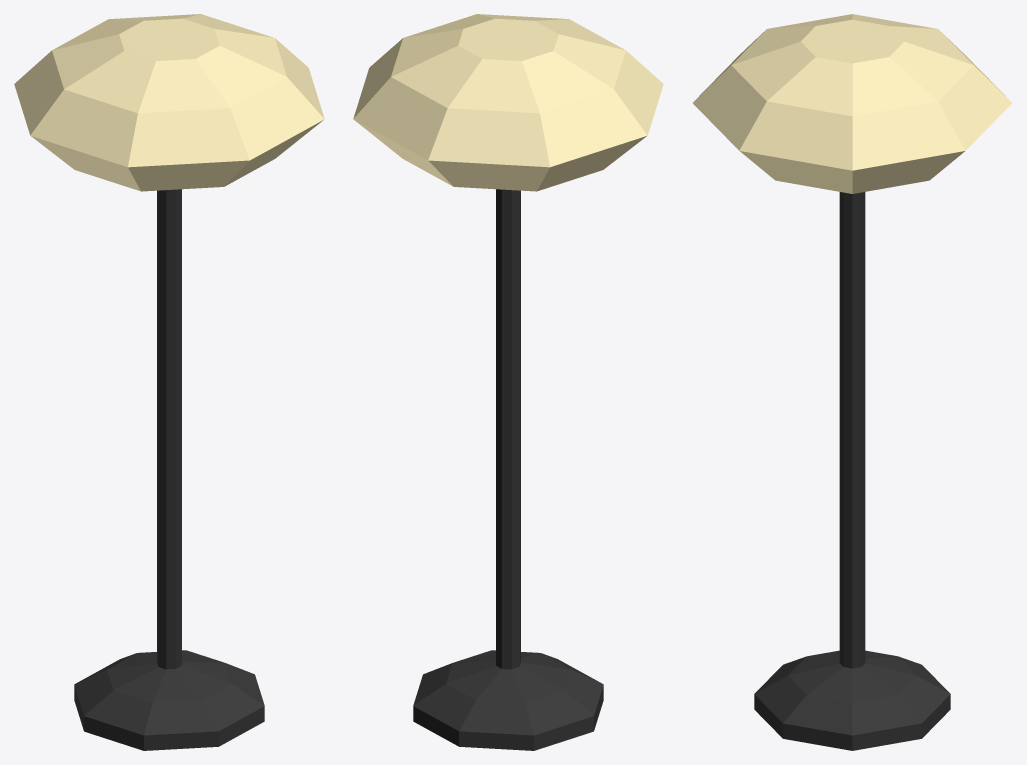
File: Floor Lamp.fbx
3 renders of one model, left to right at view 1: azimuth 30°, elevation 25°; view 2: azimuth 150°, elevation 25°; view 3: azimuth 270°, elevation 25°, orthographic.
Parts seen in each view (by area): view 1: Cylinder; view 2: Cylinder; view 3: Cylinder.
Boxes of the visible parts, x1,y1,x2,y2 form: Cylinder: (14, 14, 324, 750); Cylinder: (353, 14, 663, 750); Cylinder: (693, 14, 1011, 750).
Bounding box in the file's own units: 606 × 1395 × 606.
